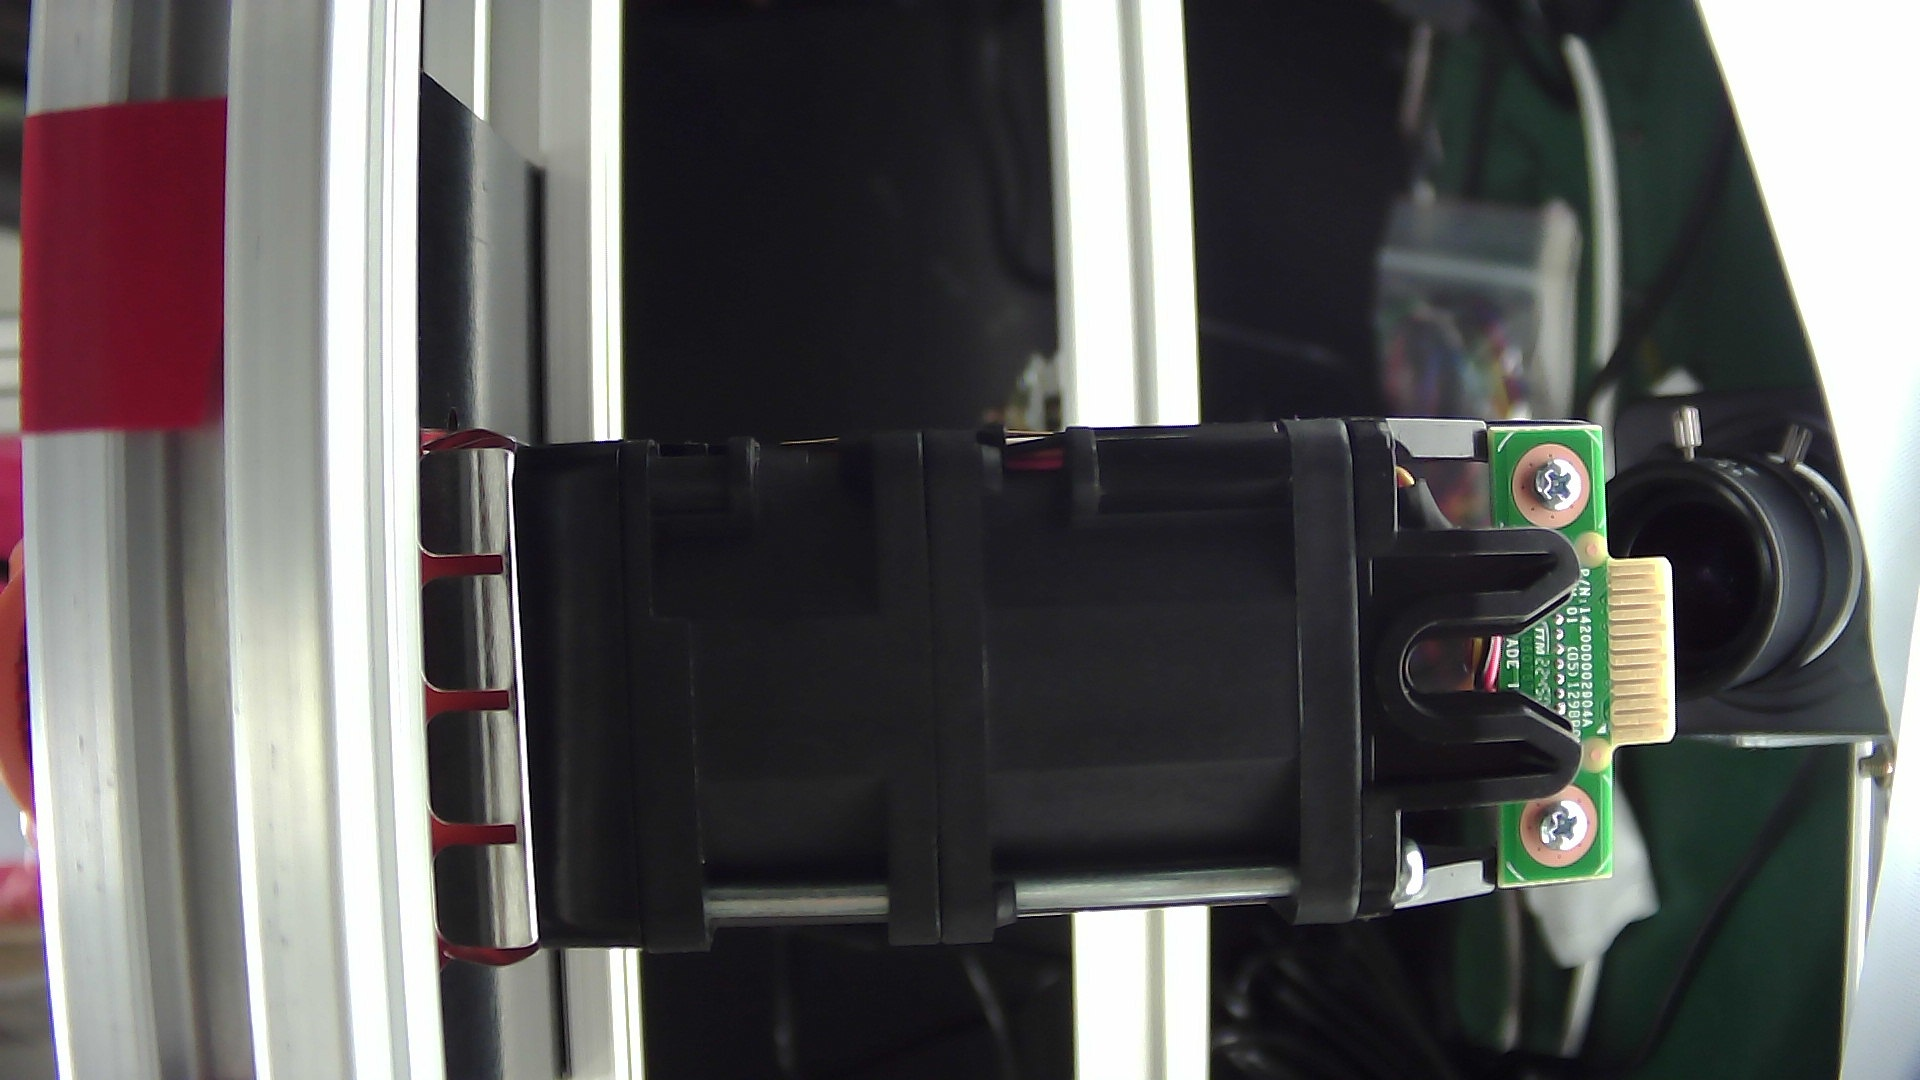5_0: (356, 371, 1687, 978)
